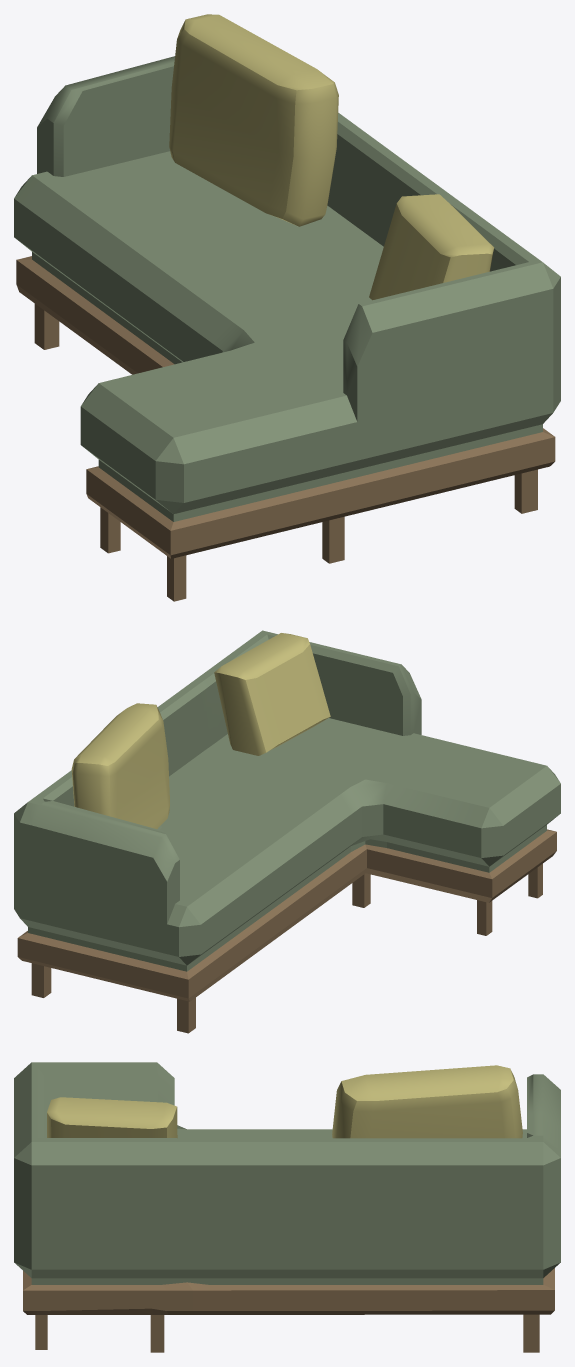
The model's file is Couch.fbx.
3 renders of one model, top to bottom at view 1: azimuth 30°, elevation 25°; view 2: azimuth 150°, elevation 25°; view 3: azimuth 270°, elevation 25°, orthographic. The views are drawn at different scales.
Parts seen in each view (by area): view 1: Couch; view 2: Couch; view 3: Couch.
Part boxes in pixels (x1,y1,x2,y2): Couch: (14, 14, 560, 601); Couch: (14, 630, 560, 1033); Couch: (14, 1062, 560, 1352).
Bounding box in the file's own units: 84.64 × 61.5 × 118.
